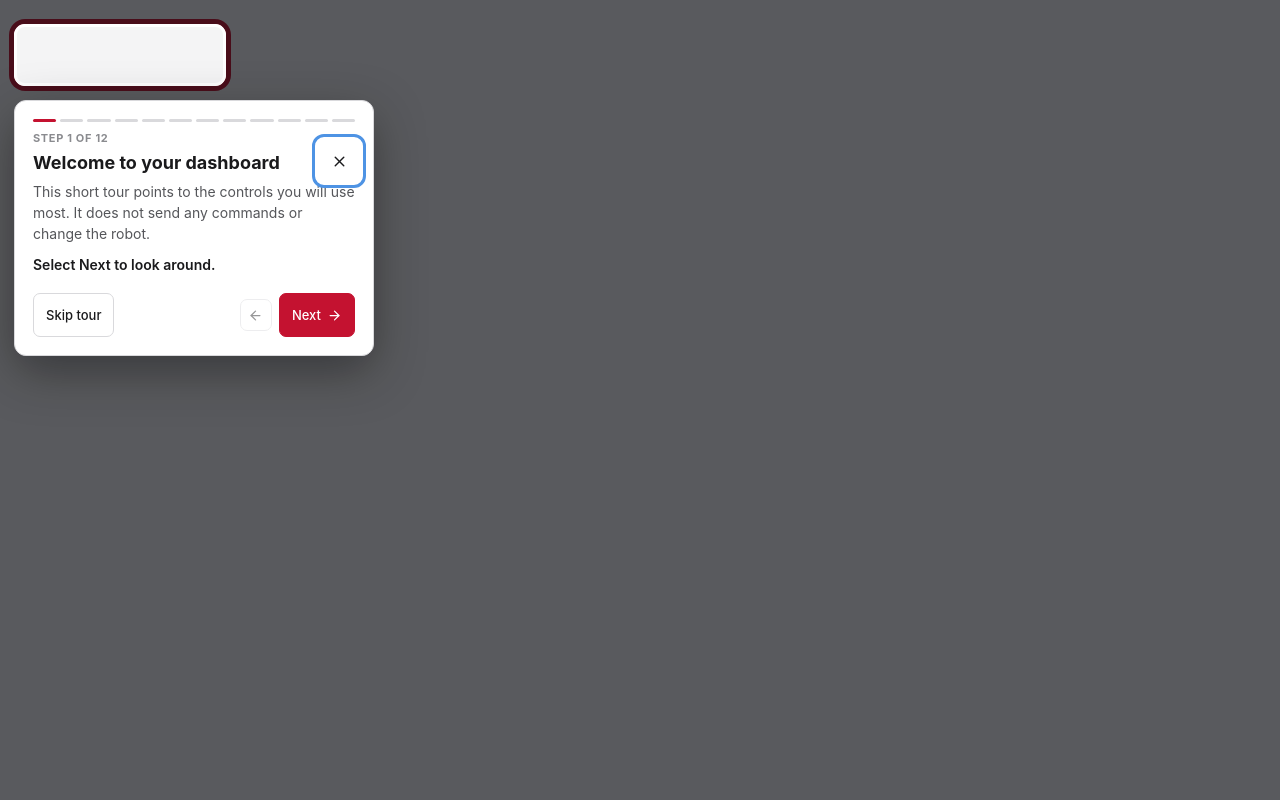
Test: interactive dashboard tour › spotlights targets and reports the layout-specific step count
Expected: the heading "Welcome to your dashboard" is shown, x1=33 y1=152 x2=280 y2=173
Expected: the element with class "tour-spotlight" is shown, x1=14 y1=24 x2=226 y2=86
Click the button "Next": click(317, 315) x1=279 y1=293 x2=355 y2=337
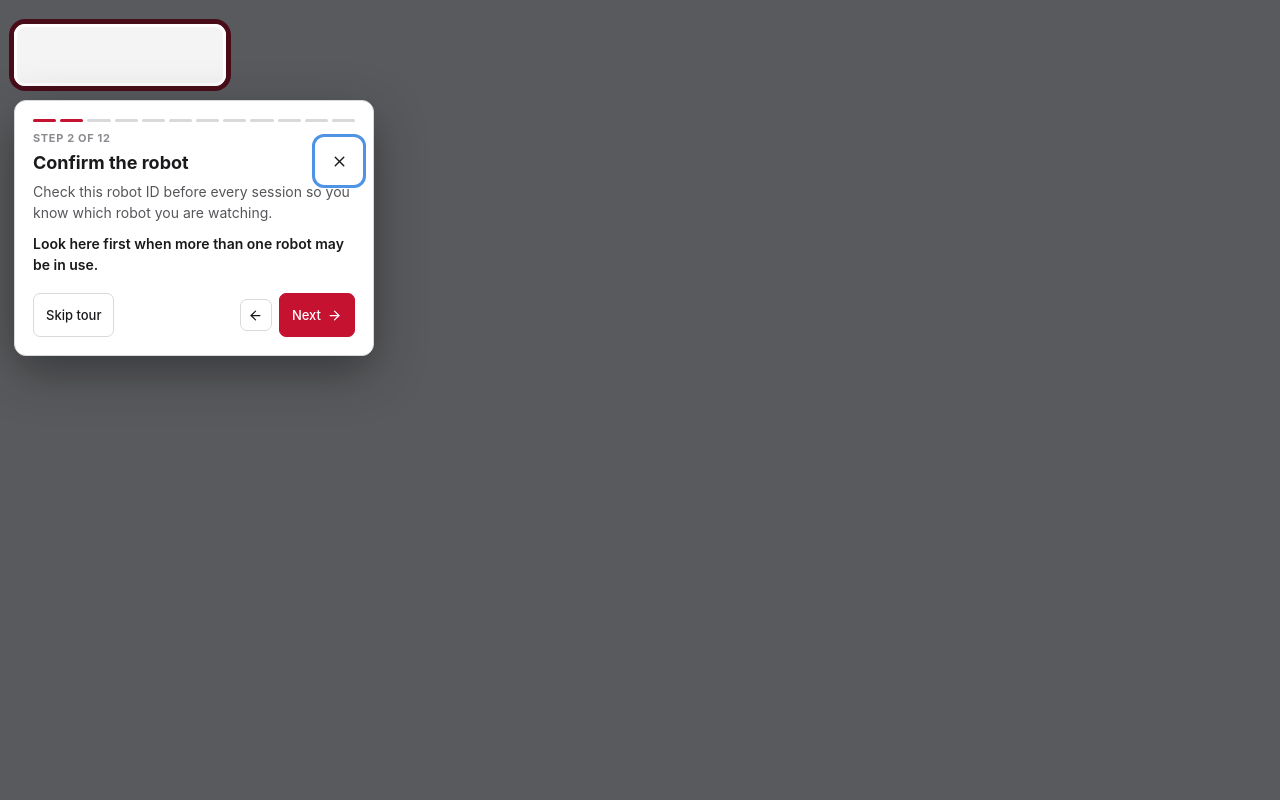
Result: the heading "Confirm the robot" is shown at x1=33 y1=152 x2=189 y2=173
